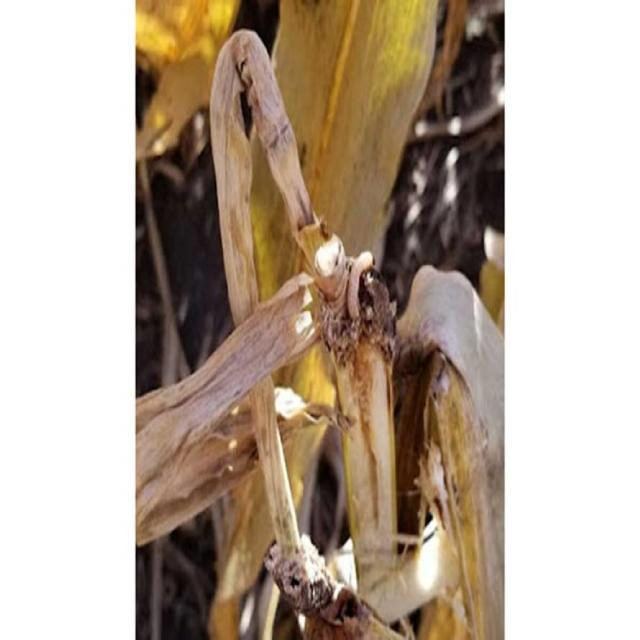cornborer-Larva-: (339, 247, 379, 332)
